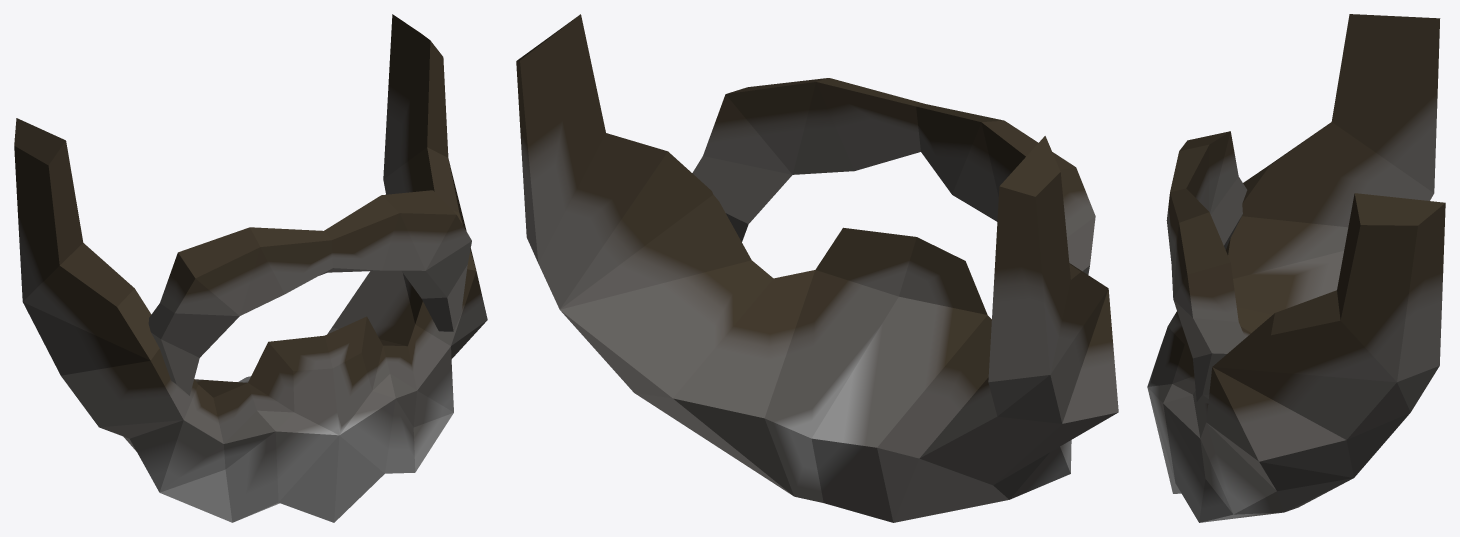
The model's file is SM_Chr_Attach_Beard_03.fbx.
3 renders of one model, left to right at view 1: azimuth 30°, elevation 25°; view 2: azimuth 150°, elevation 25°; view 3: azimuth 270°, elevation 25°, orthographic. The views are drawn at different scales.
Visible parts, largest first — view 1: SM_Chr_Attach_Beard_03, SM_Chr_Attach_Beard_03_Mustache; view 2: SM_Chr_Attach_Beard_03, SM_Chr_Attach_Beard_03_Mustache; view 3: SM_Chr_Attach_Beard_03, SM_Chr_Attach_Beard_03_Mustache.
Part boxes in pixels (bbox=[...]): SM_Chr_Attach_Beard_03: bbox=[14, 14, 487, 522]; SM_Chr_Attach_Beard_03_Mustache: bbox=[148, 190, 471, 395]; SM_Chr_Attach_Beard_03: bbox=[516, 14, 1118, 522]; SM_Chr_Attach_Beard_03_Mustache: bbox=[692, 78, 1095, 274]; SM_Chr_Attach_Beard_03: bbox=[1147, 14, 1445, 522]; SM_Chr_Attach_Beard_03_Mustache: bbox=[1166, 131, 1247, 403].
Size of the model in its own units: 23.18 by 20.09 by 13.76.
